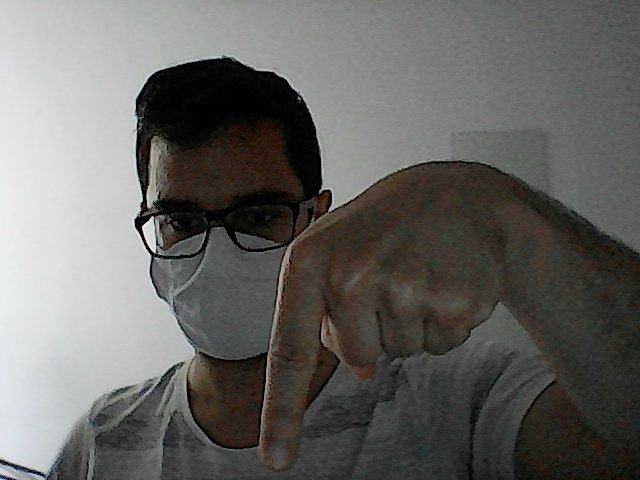down: (250, 140, 520, 478)
